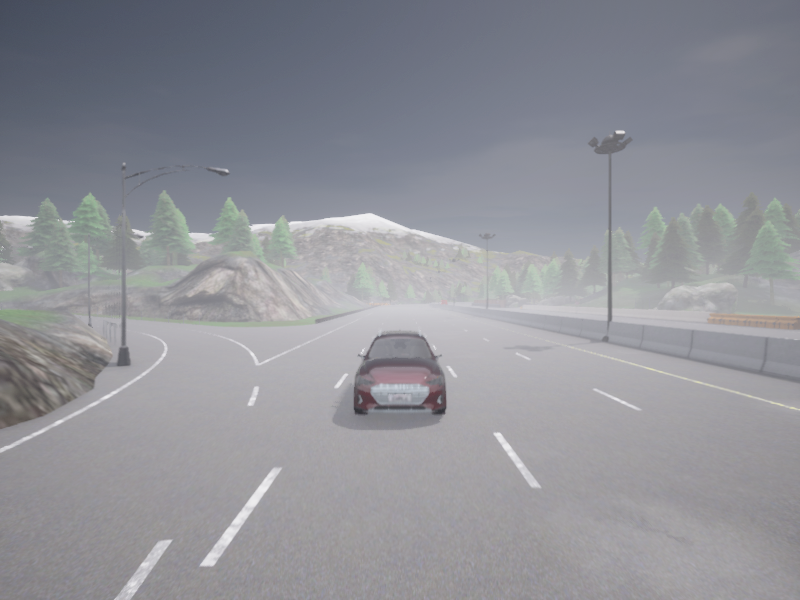vehicle: (353, 329, 446, 414), (441, 300, 446, 304)
